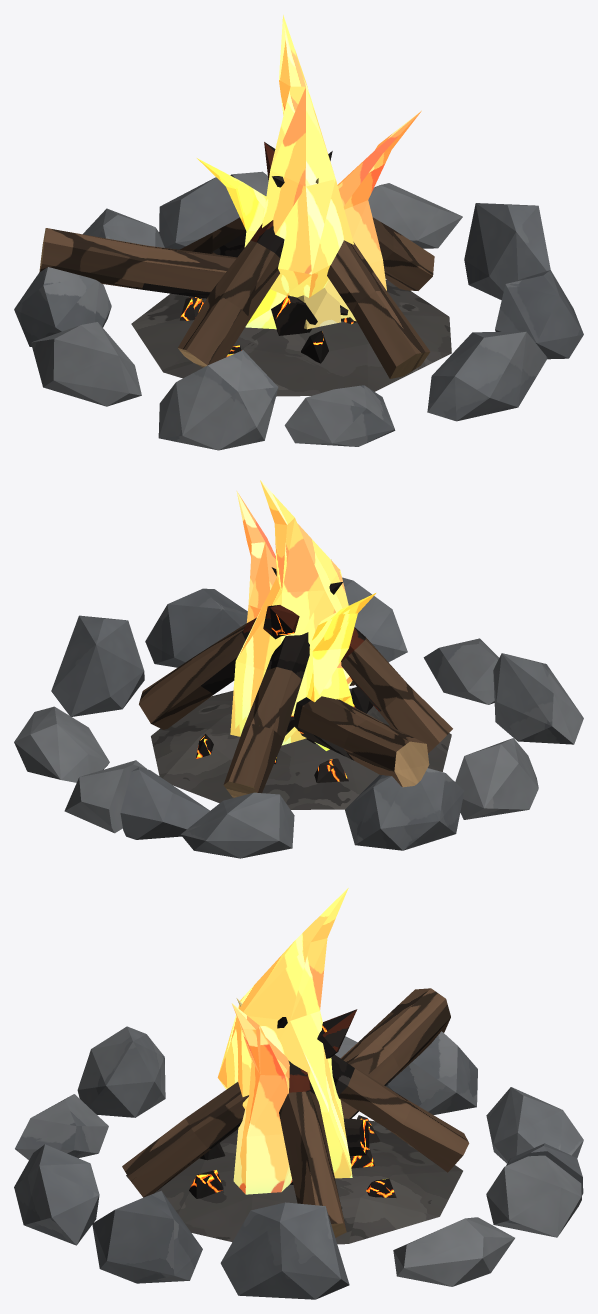
The model's file is SM_Campfire.fbx.
3 renders of one model, top to bottom at view 1: azimuth 30°, elevation 25°; view 2: azimuth 150°, elevation 25°; view 3: azimuth 270°, elevation 25°, orthographic. The views are drawn at different scales.
Visible parts, largest first — view 1: SM_Campfire, SM_Campfire_Flame; view 2: SM_Campfire, SM_Campfire_Flame; view 3: SM_Campfire, SM_Campfire_Flame.
Part boxes in pixels (x1=…): SM_Campfire: x1=14, y1=142, x2=583, y2=450; SM_Campfire_Flame: x1=197, y1=15, x2=421, y2=329; SM_Campfire: x1=14, y1=567, x2=583, y2=858; SM_Campfire_Flame: x1=230, y1=480, x2=375, y2=750; SM_Campfire: x1=14, y1=988, x2=583, y2=1299; SM_Campfire_Flame: x1=217, y1=888, x2=352, y2=1194.
Size of the model in its own units: 1.09 by 0.63 by 1.08.
